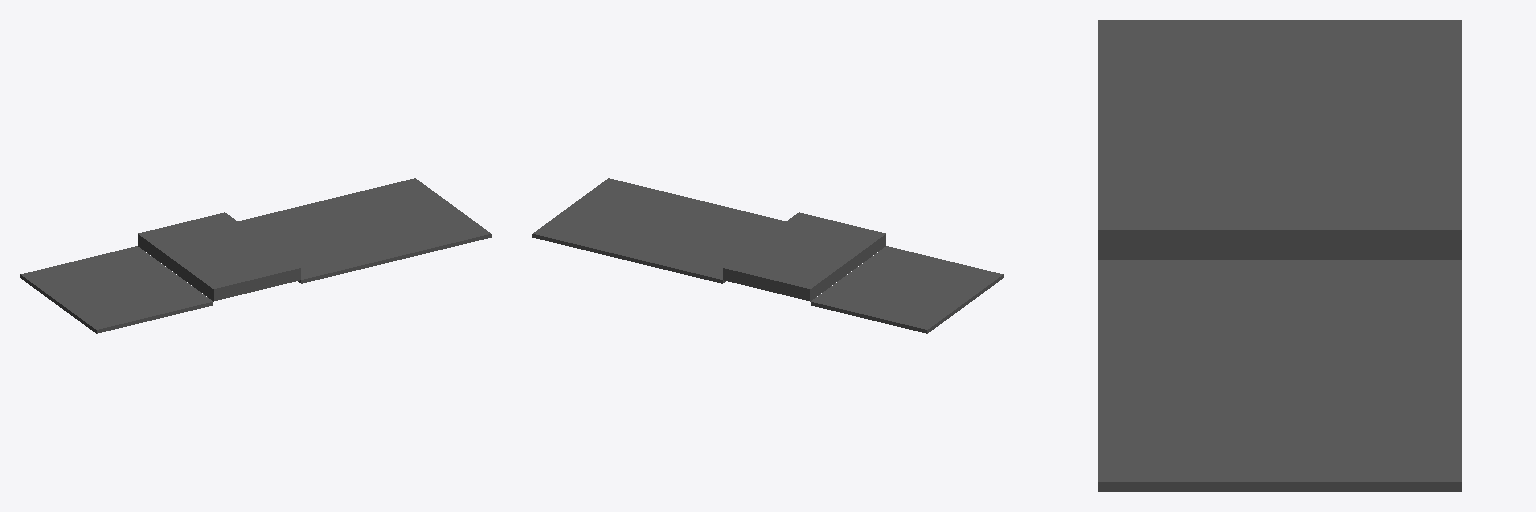
robot.urdf — scene:
<robot name="scene">
  <link concave="yes" name="floor">
  <inertial>
      <origin rpy="0 0 0" xyz="0 0 0"/>
       <mass value="0.0"/>
       <inertia ixx="0" ixy="0" ixz="0" iyy="0" iyz="0" izz="0"/>
   </inertial>
  <visual>
    <origin xyz="0 0 -0.0001" rpy="0 0 0" />
    <geometry>
      <mesh filename="step.stl"/>
    </geometry>
    <material name="grey">
      <color rgba="0.4 0.4 0.4 1"/>
    </material>
  </visual>
  <collision concave="yes">
    <origin xyz="0 0 0" rpy="0 0 0" />
    <geometry>
      <mesh filename="step.stl"/>
    </geometry>
  </collision>
  </link>
</robot>

--- Render facts (derived) ---
3 views of the same robot in one strip: view 1: azimuth 30°, elevation 25°; view 2: azimuth 150°, elevation 25°; view 3: azimuth 270°, elevation 25° (orthographic).
Robot: scene — 1 links, 0 joints (none); root link floor; default pose: all joints at 0.
Links seen in each view (by area): view 1: floor; view 2: floor; view 3: floor.
Boxes of the visible links, x1,y1,x2,y2 form: floor: [20, 178, 491, 333]; floor: [532, 178, 1003, 333]; floor: [1098, 20, 1461, 491].
Size in the robot's own frame: 2.7 by 0.9 by 0.105 metres.
1 mesh visuals loaded from 1 distinct referenced files (1 binary STL).